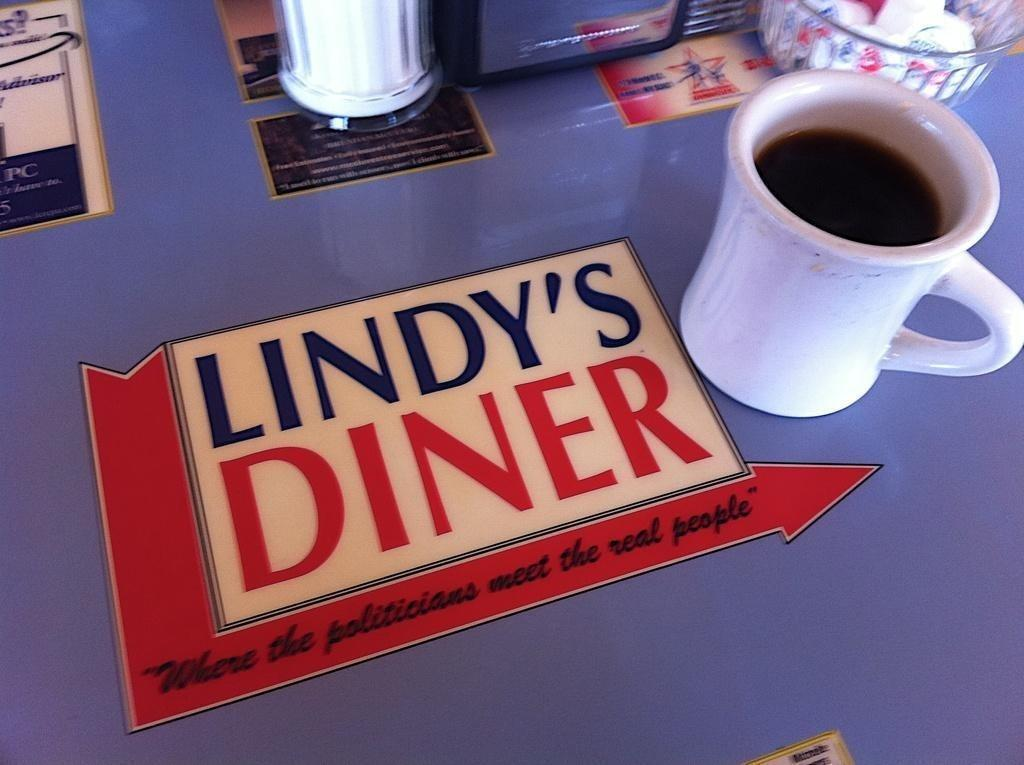cup-handle: (677, 66, 1024, 419)
